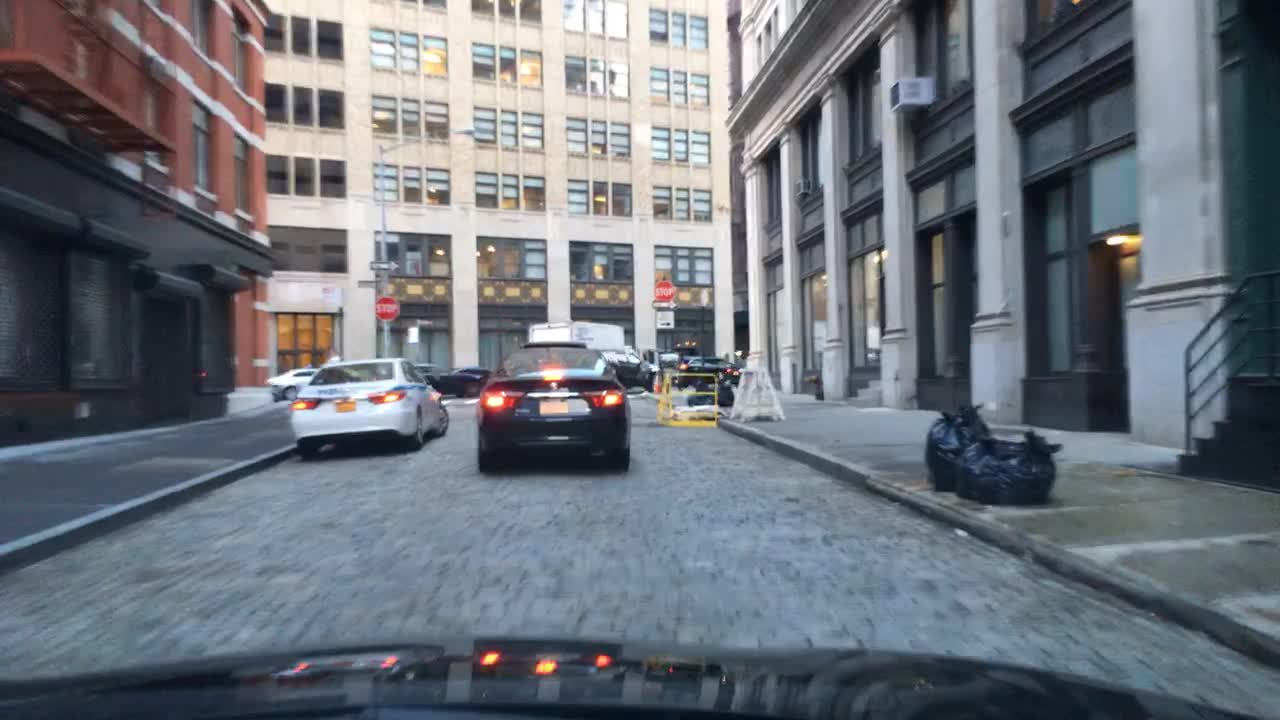car: (474, 342, 633, 471), (291, 358, 450, 454), (670, 355, 747, 387), (597, 345, 653, 388), (268, 367, 315, 401), (424, 371, 488, 393), (644, 349, 685, 370), (405, 361, 442, 382), (450, 364, 493, 376)
traffic sign: (373, 296, 399, 318), (652, 280, 675, 304), (655, 313, 672, 327), (370, 260, 396, 269), (652, 303, 675, 309)
truck: (526, 321, 627, 353)
